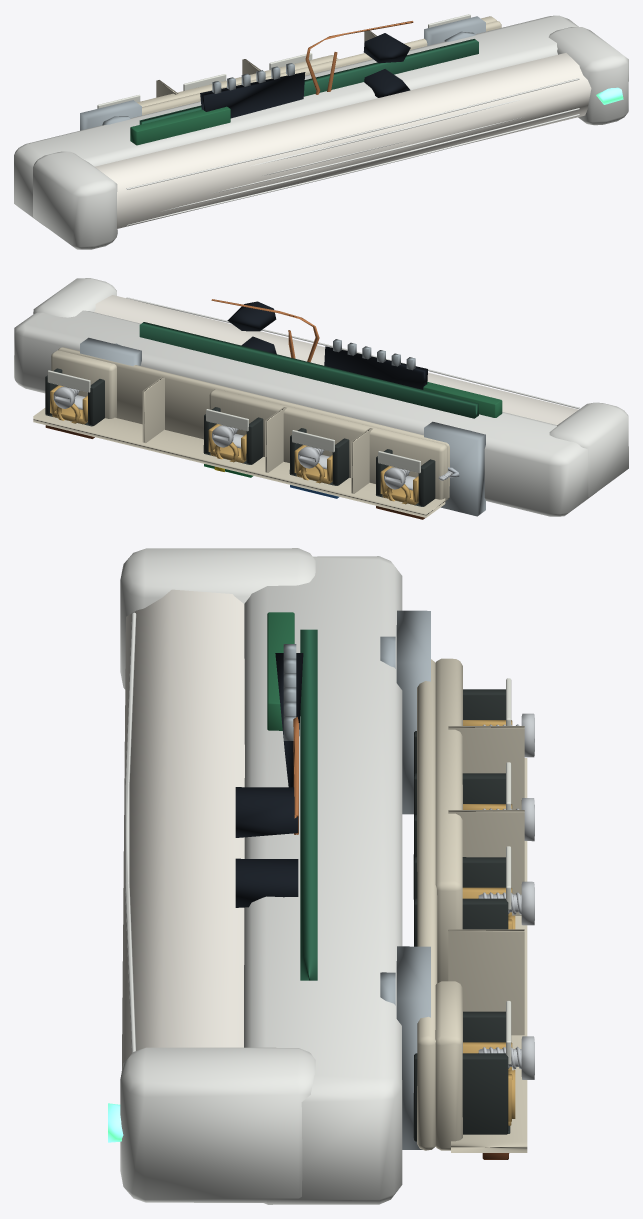
File: emergency_emergency-batten.low.glb
3 views of the same model, one above another, from view 1: azimuth 30°, elevation 25°; view 2: azimuth 150°, elevation 25°; view 3: azimuth 270°, elevation 25° (orthographic). The views are drawn at different scales.
Parts seen in each view (by area): view 1: part:cover, part:body · Original 7dbee62c, part:cover · Original 7dbee62c, part:electronics.001 · Original 3ff2d46d, part:terminals · Original 5a609f27, part:electronics.001, part:mounting · Original 2a8198d3, detail:lamp-internal-construction · Detail FR4 solder mask, part:electronics.001 · Original 2a8198d3, part:electronics.001 · Original db0da9ae, part:body.001; view 2: part:body · Original 7dbee62c, part:terminals · Original 5a609f27, part:cover, part:electronics.001, part:mounting · Original 2a8198d3, part:electronics.001 · Original 3ff2d46d, detail:terminal-clamp:PE · Detail moulded engineering polyme, detail:terminal-clamp:N · Detail moulded engineering polymer, detail:terminal-clamp:L · Detail moulded engineering polymer, detail:terminal-clamp:SL · Detail moulded engineering polyme, detail:lamp-internal-construction · Detail FR4 solder mask, part:cover · Original 7dbee62c (+14 smaller); view 3: part:body · Original 7dbee62c, part:cover, part:terminals · Original 5a609f27, part:mounting · Original 2a8198d3, part:electronics.001 · Original 3ff2d46d, part:electronics.001, detail:terminal-clamp:SL · Detail moulded engineering polyme, detail:terminal-clamp:PE · Detail moulded engineering polyme, part:cover · Original 7dbee62c, detail:lamp-internal-construction · Detail FR4 solder mask, detail:terminal-clamp:N · Detail moulded engineering polymer, detail:terminal-clamp:L · Detail moulded engineering polymer (+3 smaller).
Boxes of the visible parts, x1,y1,x2,y2 form: part:cover: (95,53,591,228); part:body · Original 7dbee62c: (14,15,628,249); part:cover · Original 7dbee62c: (126,78,579,225); part:electronics.001 · Original 3ff2d46d: (200,33,410,118); part:terminals · Original 5a609f27: (137,16,501,115); part:electronics.001: (139,39,478,124); part:mounting · Original 2a8198d3: (80,16,485,130); detail:lamp-internal-construction · Detail FR4 solder mask: (130,106,230,145); part:electronics.001 · Original 2a8198d3: (212,63,294,93); part:electronics.001 · Original db0da9ae: (305,21,413,94); part:body.001: (596,87,623,104); part:body · Original 7dbee62c: (14,278,628,516); part:terminals · Original 5a609f27: (33,347,449,517); part:cover: (94,295,578,424); part:electronics.001: (139,322,478,418); part:mounting · Original 2a8198d3: (80,337,485,516); part:electronics.001 · Original 3ff2d46d: (227,301,427,389); detail:terminal-clamp:PE · Detail moulded engineering polyme: (203,407,263,464); detail:terminal-clamp:N · Detail moulded engineering polymer: (289,428,349,485); detail:terminal-clamp:L · Detail moulded engineering polymer: (376,449,435,506); detail:terminal-clamp:SL · Detail moulded engineering polyme: (45,368,104,426); detail:lamp-internal-construction · Detail FR4 solder mask: (423,382,502,417); part:cover · Original 7dbee62c: (126,297,579,408); part:body · Original 7dbee62c: (120,548,402,1204); part:cover: (121,589,244,1071); part:terminals · Original 5a609f27: (417,658,527,1152); part:mounting · Original 2a8198d3: (380,610,430,1149); part:electronics.001 · Original 3ff2d46d: (235,653,303,907); part:electronics.001: (300,629,317,980); detail:terminal-clamp:SL · Detail moulded engineering polyme: (413,1011,510,1141); detail:terminal-clamp:PE · Detail moulded engineering polyme: (414,857,508,946); part:cover · Original 7dbee62c: (125,612,136,1052); detail:lamp-internal-construction · Detail FR4 solder mask: (267,612,294,730); detail:terminal-clamp:N · Detail moulded engineering polymer: (413,773,505,899); detail:terminal-clamp:L · Detail moulded engineering polymer: (414,689,505,774).
Bounding box in the file's own units: 1.52 × 0.3642 × 0.503.
